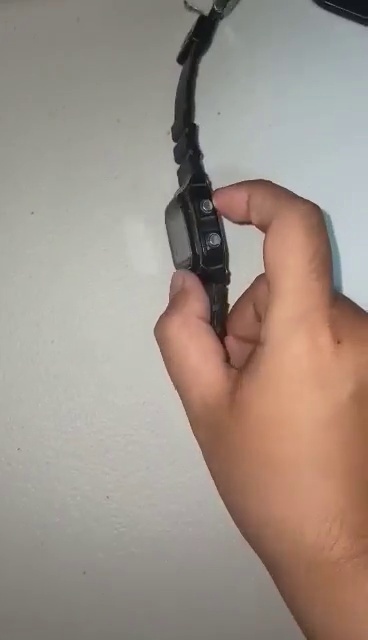watch: (163, 5, 237, 367)
